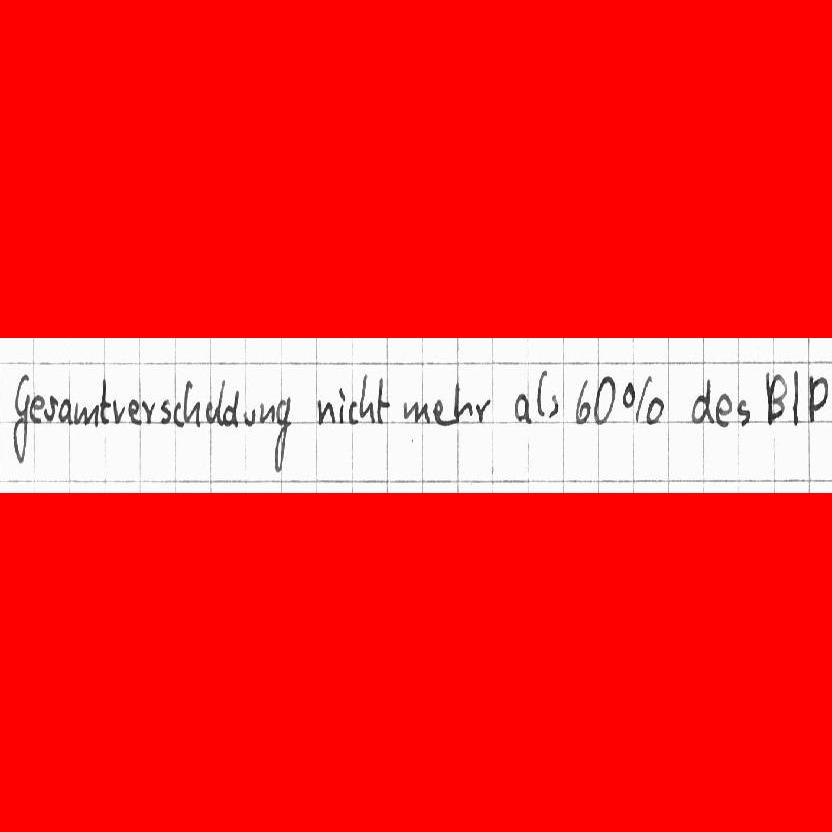Char: (269, 394, 294, 473), (11, 371, 29, 467), (689, 372, 713, 430), (764, 370, 786, 426), (594, 374, 614, 427), (641, 382, 662, 425), (574, 376, 592, 426), (183, 378, 201, 427), (634, 373, 651, 423), (97, 375, 113, 428), (401, 397, 431, 425), (358, 373, 375, 422), (809, 375, 827, 420), (376, 376, 391, 426), (453, 380, 470, 424), (74, 401, 100, 427), (716, 392, 734, 427), (512, 391, 531, 424), (224, 385, 239, 426), (790, 367, 800, 427), (536, 370, 548, 420), (620, 379, 636, 413), (316, 398, 336, 425), (432, 399, 451, 427), (736, 396, 752, 429), (29, 393, 45, 424), (473, 397, 491, 424), (171, 399, 186, 428), (140, 398, 156, 425), (125, 398, 140, 426), (258, 401, 275, 425), (44, 392, 57, 423), (337, 385, 347, 424), (158, 396, 171, 425), (58, 397, 71, 425), (113, 397, 126, 423), (547, 393, 560, 418), (205, 400, 218, 424), (242, 407, 255, 429), (347, 398, 358, 424)
